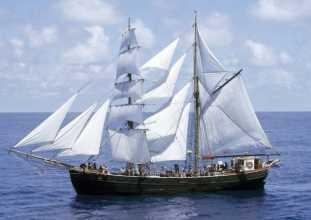fanchuan: (3, 11, 284, 197)
